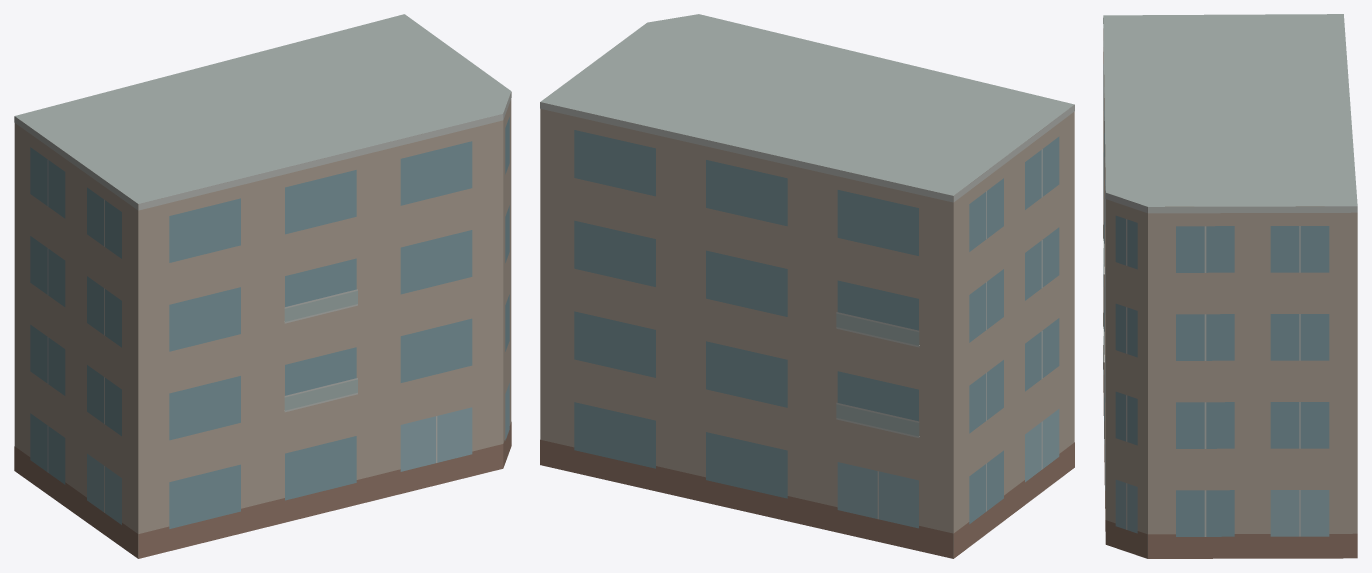
The model's file is survey-upis-32753597.glb.
3 views of the same model, side by side, from view 1: azimuth 30°, elevation 25°; view 2: azimuth 150°, elevation 25°; view 3: azimuth 270°, elevation 25° (orthographic). The views are drawn at different scales.
Visible parts, largest first — view 1: survey-upis-32753597.tmp; view 2: survey-upis-32753597.tmp; view 3: survey-upis-32753597.tmp.
Part boxes in pixels (box(x1,y1,x2,y2)): survey-upis-32753597.tmp: box(14, 14, 511, 558); survey-upis-32753597.tmp: box(540, 14, 1074, 558); survey-upis-32753597.tmp: box(1103, 14, 1357, 558).
Bounding box in the file's own units: 15.51 × 13.2 × 8.66.
